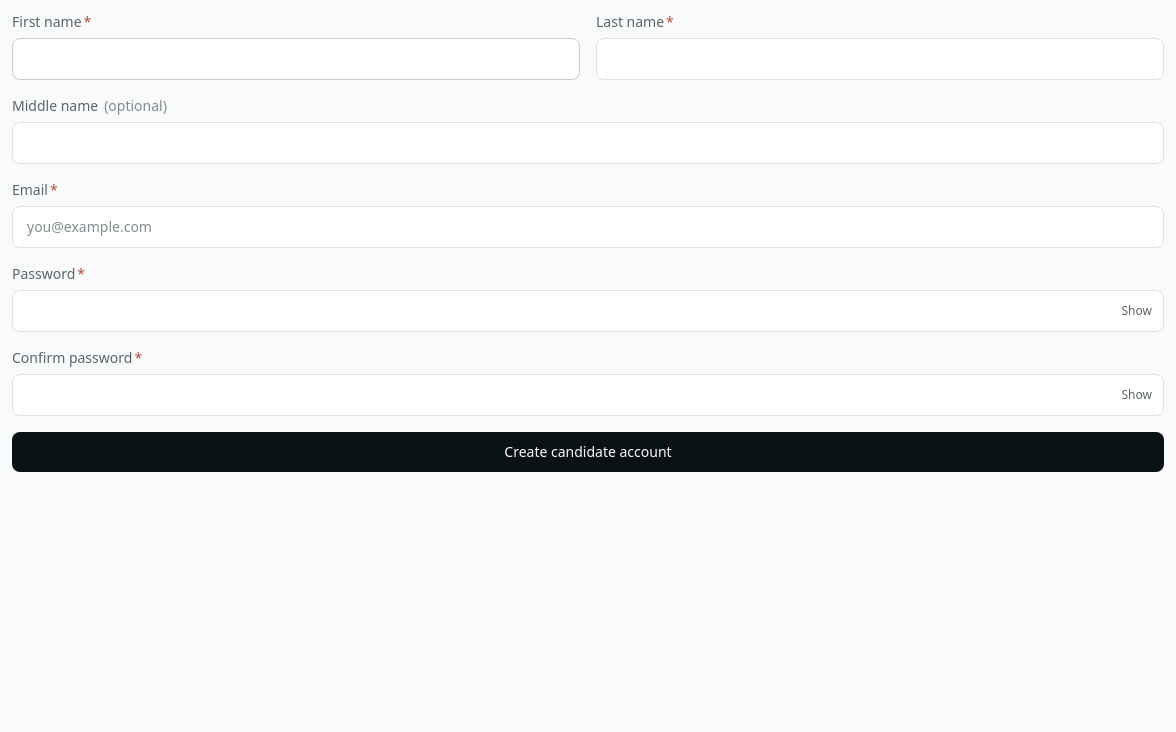
Test: CandidateRegisterForm › blocks submission until the form is valid
Click the button "Create candidate account". click: (588, 452)
box: [12,432,1164,472]
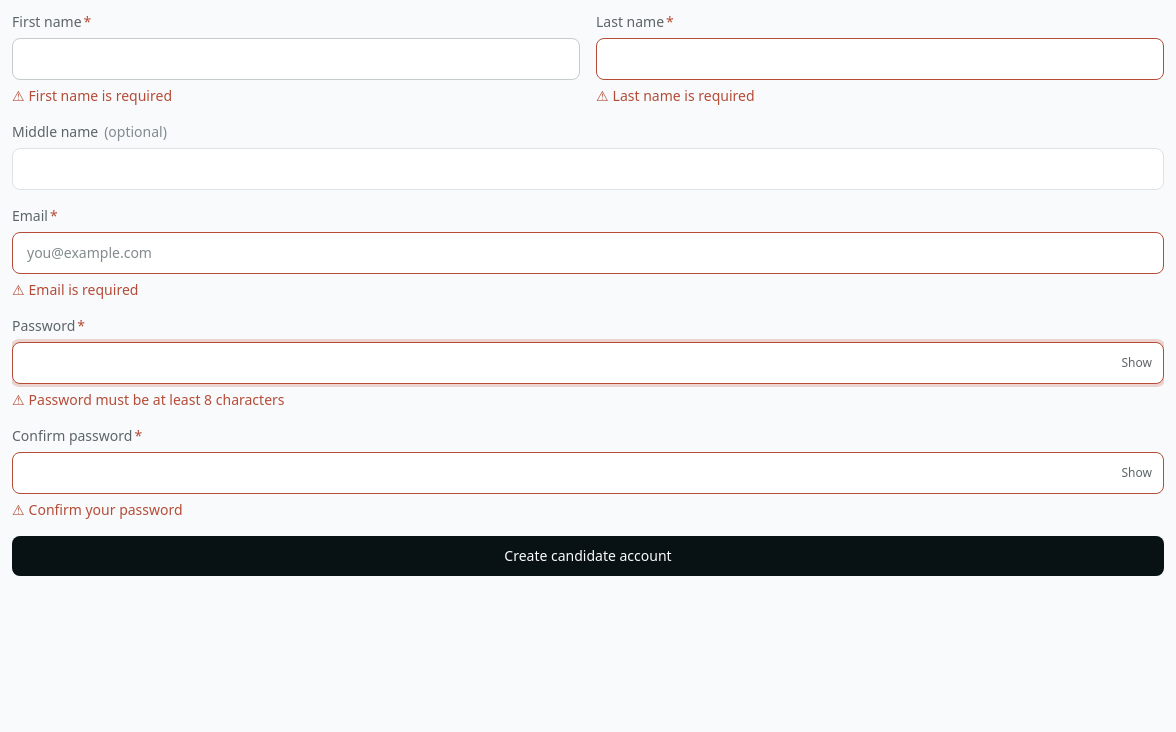
Expected: the text "First name is required" is shown, [29,86,172,106]
